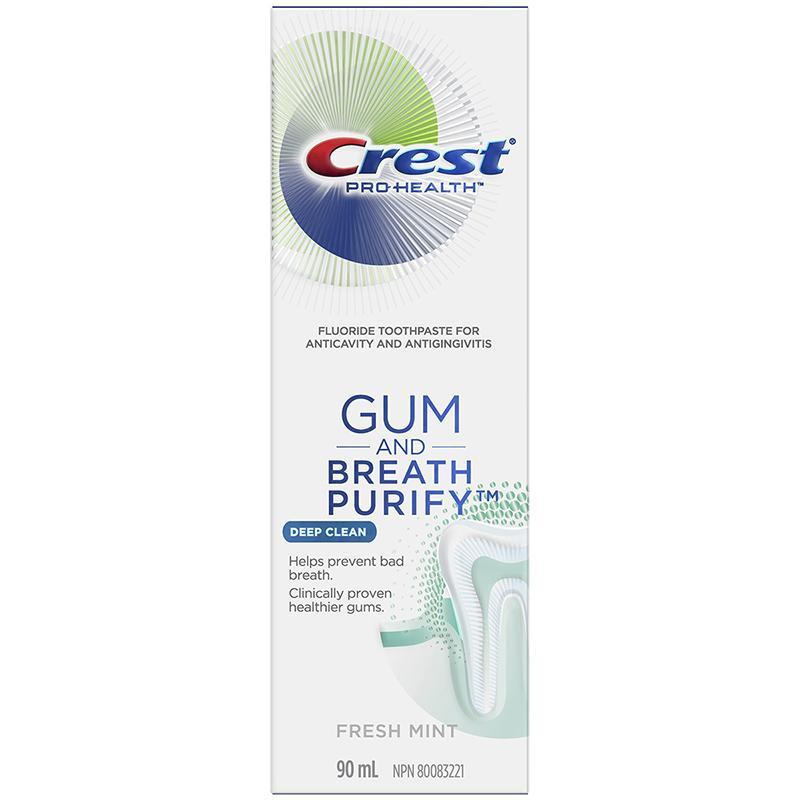toothpaste: (271, 7, 535, 798)
